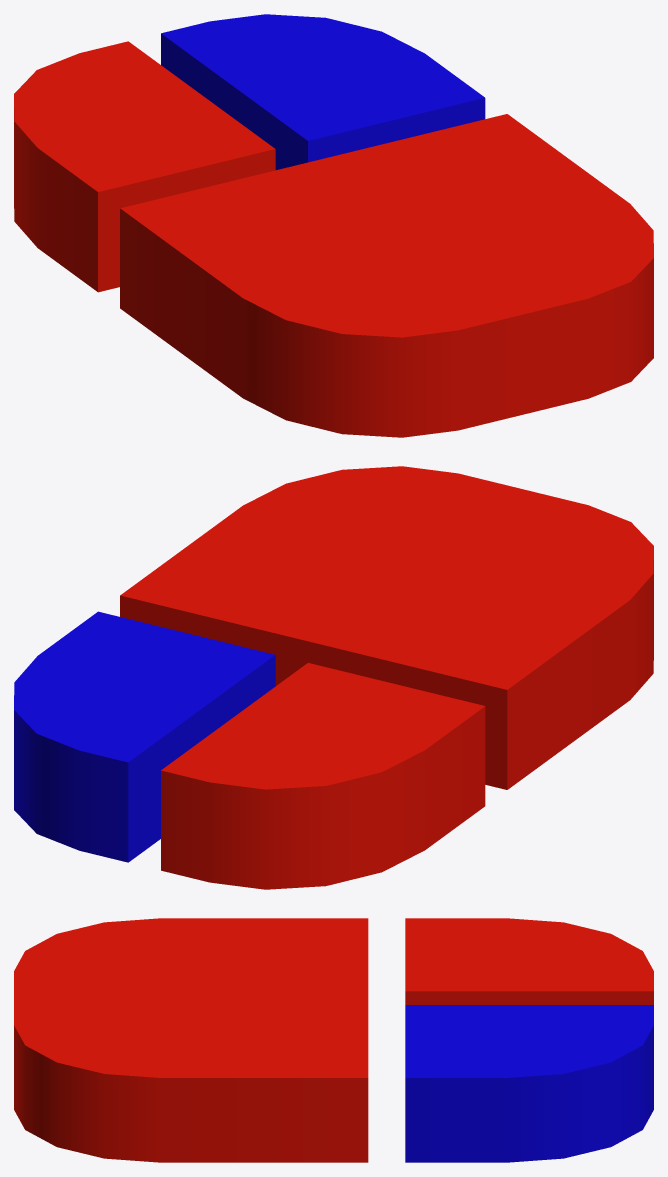
Rendered from Mouse2.fbx.
3 renders of one model, top to bottom at view 1: azimuth 30°, elevation 25°; view 2: azimuth 150°, elevation 25°; view 3: azimuth 270°, elevation 25°, orthographic. The views are drawn at different scales.
Visible parts, largest first — view 1: Cube; view 2: Cube; view 3: Cube.
Part boxes in pixels (box(x1,y1,x2,y2)): Cube: box(14, 14, 653, 437); Cube: box(14, 466, 653, 889); Cube: box(14, 918, 653, 1162).
Size of the model in its own units: 62.93 by 15.56 by 107.
